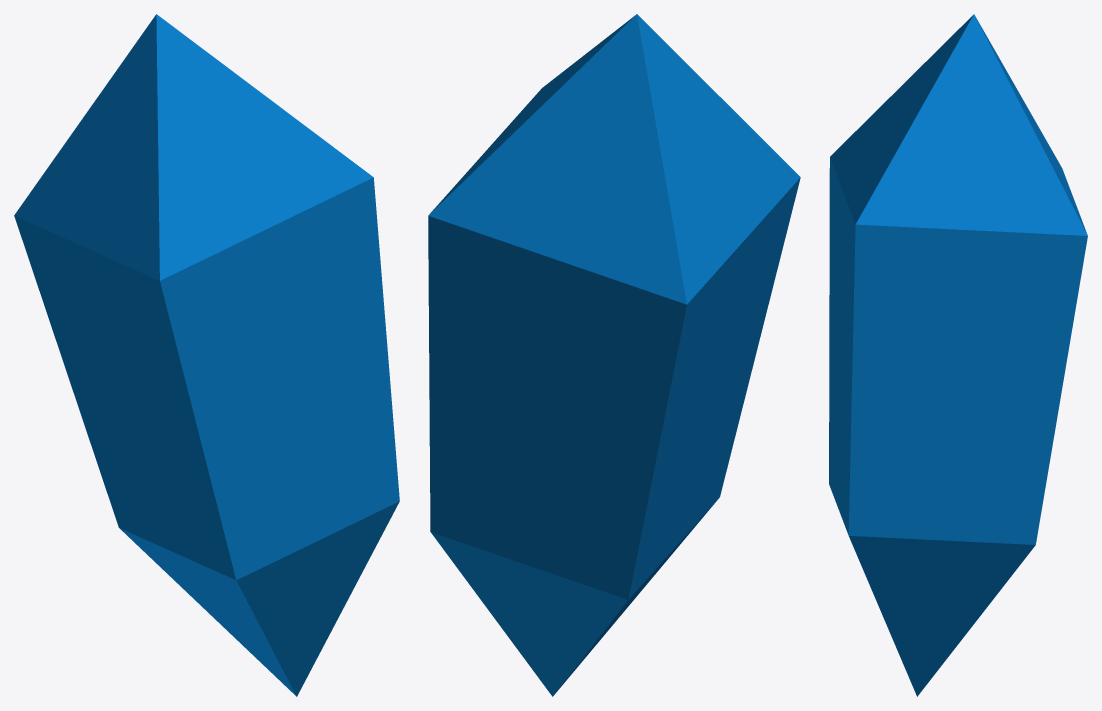
The model's file is right_leg_upper.obj.
3 renders of one model, left to right at view 1: azimuth 30°, elevation 25°; view 2: azimuth 150°, elevation 25°; view 3: azimuth 270°, elevation 25°, orthographic. The views are drawn at different scales.
Parts seen in each view (by area): view 1: right_leg_upper; view 2: right_leg_upper; view 3: right_leg_upper.
Boxes of the visible parts, <box> form: right_leg_upper: <box>14,14,399,696</box>; right_leg_upper: <box>428,14,800,696</box>; right_leg_upper: <box>829,14,1087,696</box>.
Size of the model in its own units: 0.7582 by 1.84 by 0.6832.
